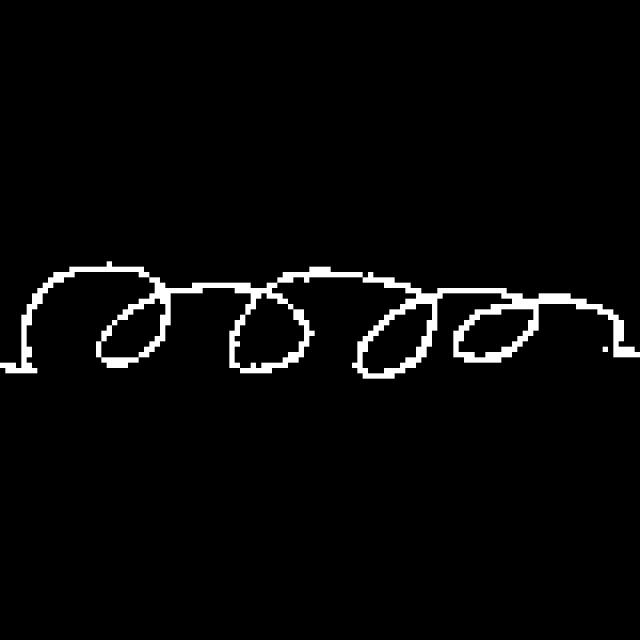inductor: (14, 240, 626, 399)
